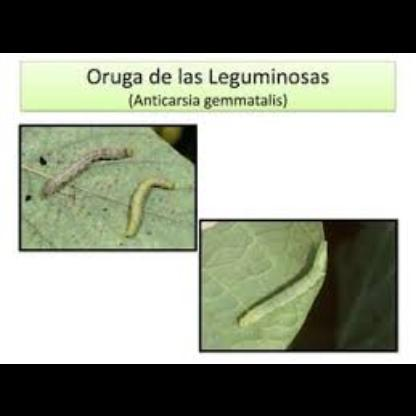oruga: (230, 240, 334, 332), (32, 142, 130, 208), (122, 170, 176, 238)
